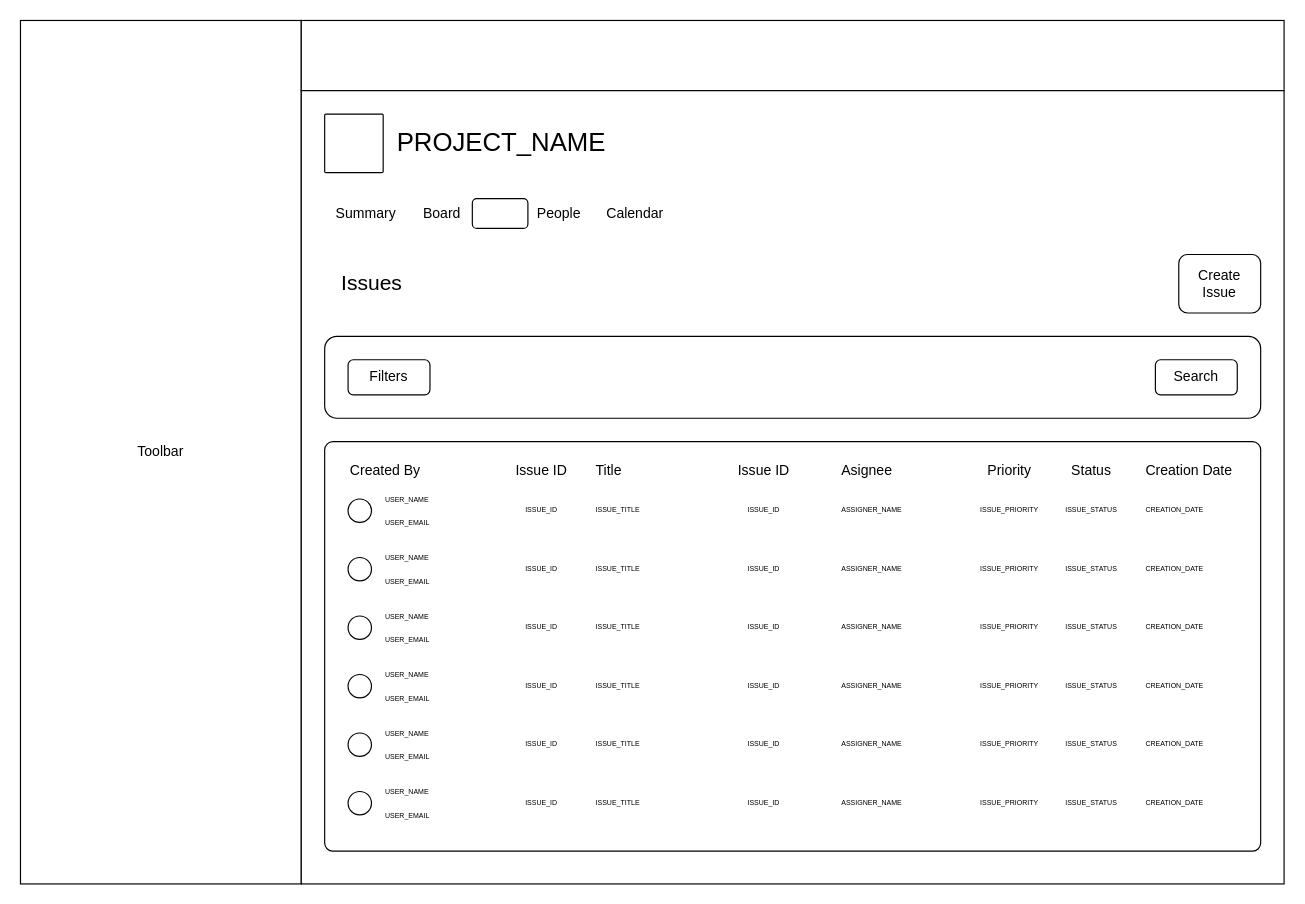
This 1305x904 diagram has some shape labels left out. The centre of each missing label's shape, as x and y in pixels:
"List" goes at point (499, 212).
"Navigation" goes at point (792, 55).
